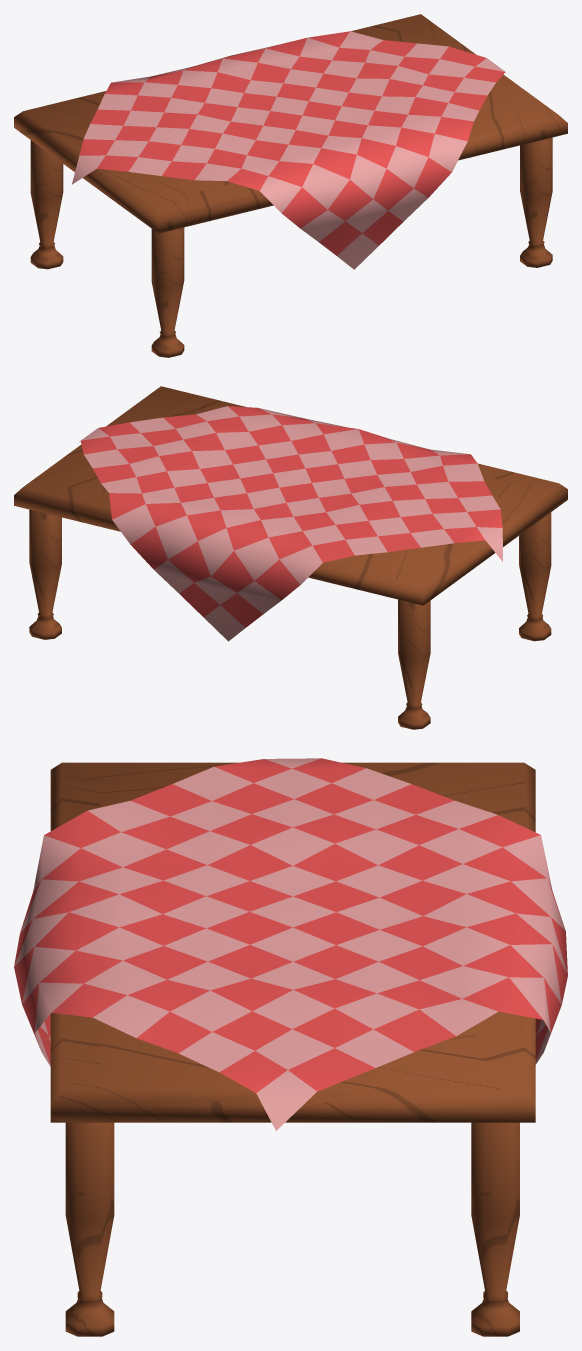
File: Mesa QUADRADA1.fbx
3 renders of one model, top to bottom at view 1: azimuth 30°, elevation 25°; view 2: azimuth 150°, elevation 25°; view 3: azimuth 270°, elevation 25°, orthographic. The views are drawn at different scales.
Parts seen in each view (by area): view 1: Plane.002, Cube.001, Cube.002; view 2: Plane.002, Cube.001, Cube.002; view 3: Plane.002, Cube.001, Cube.002.
Part boxes in pixels (x1,y1,x2,y2): Plane.002: (72,31,505,269); Cube.001: (14,14,567,233); Cube.002: (30,137,552,357); Plane.002: (79,406,502,641); Cube.001: (14,386,567,605); Cube.002: (29,509,551,729); Plane.002: (14,758,567,1130); Cube.001: (50,762,535,1122); Cube.002: (65,1122,519,1336).
Bounding box in the file's own units: 425 × 148 × 280.
